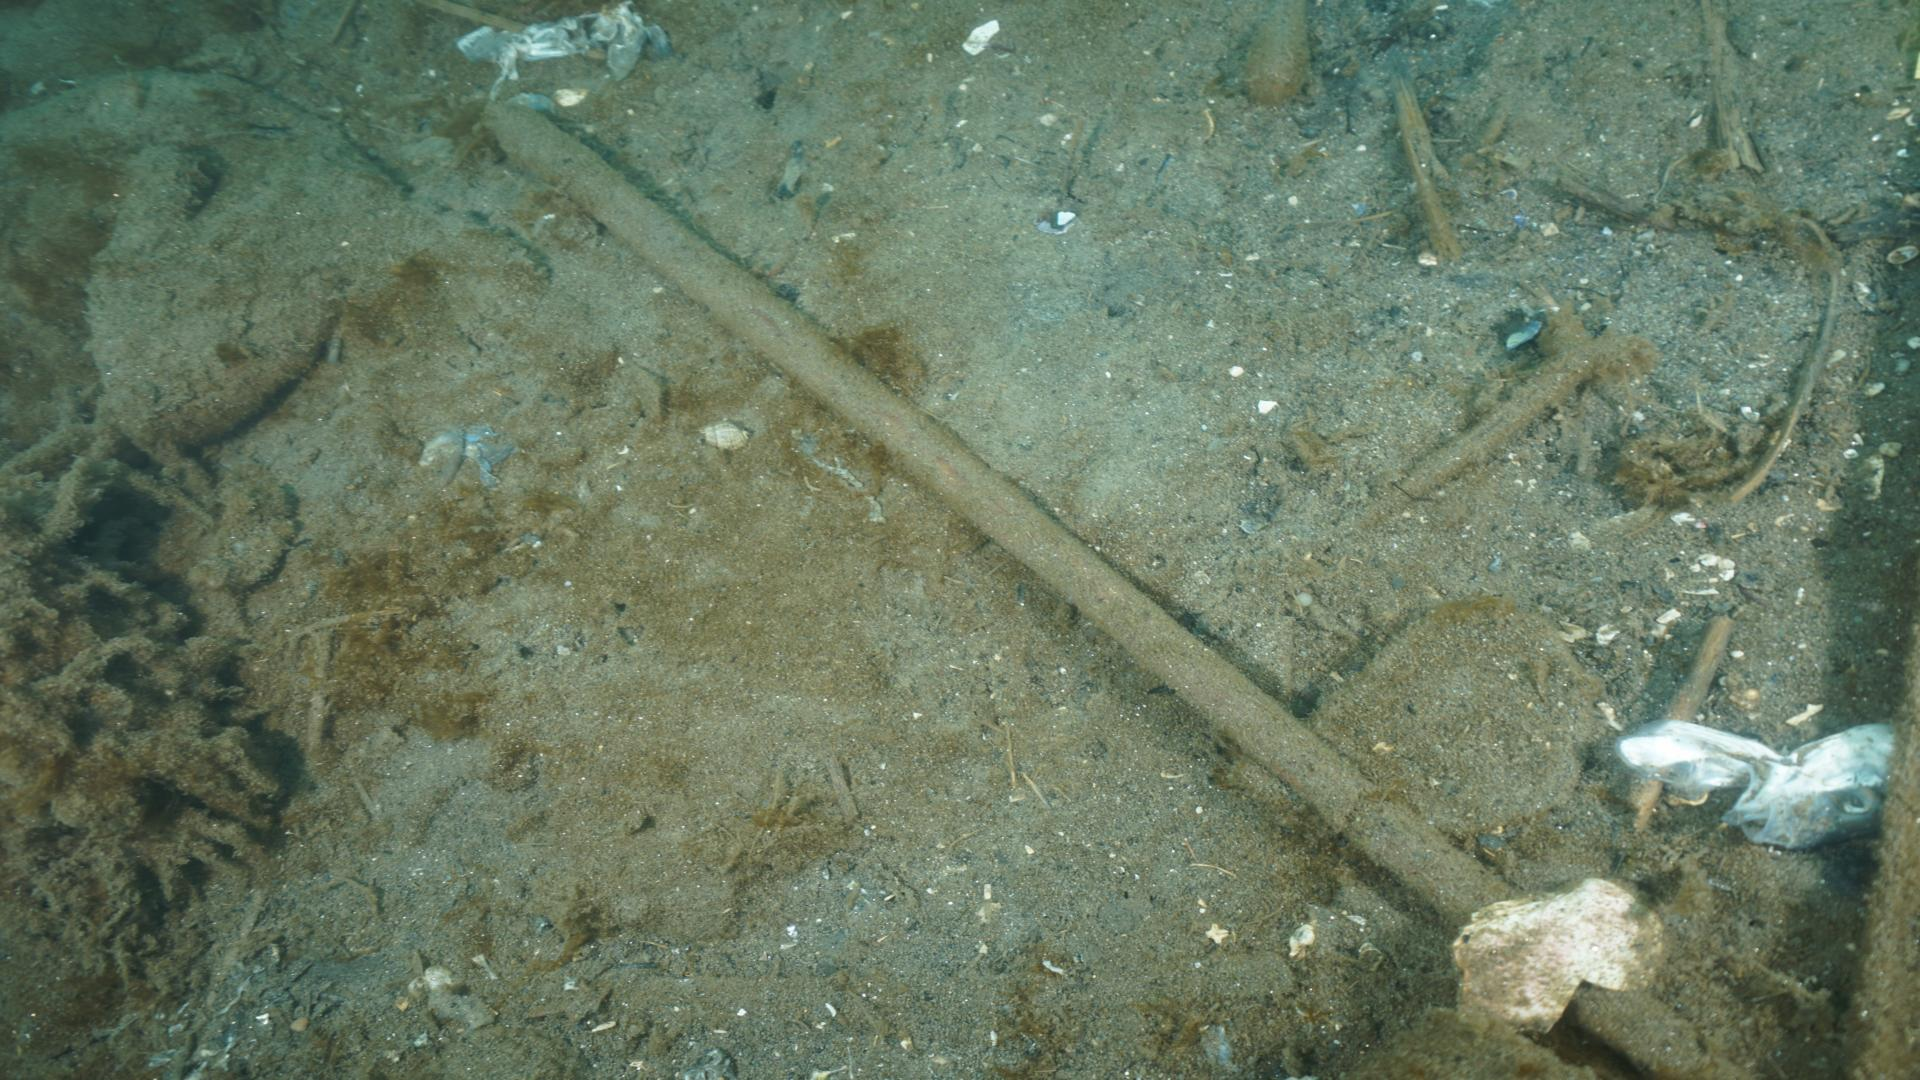wood: (491, 113, 1702, 1063)
